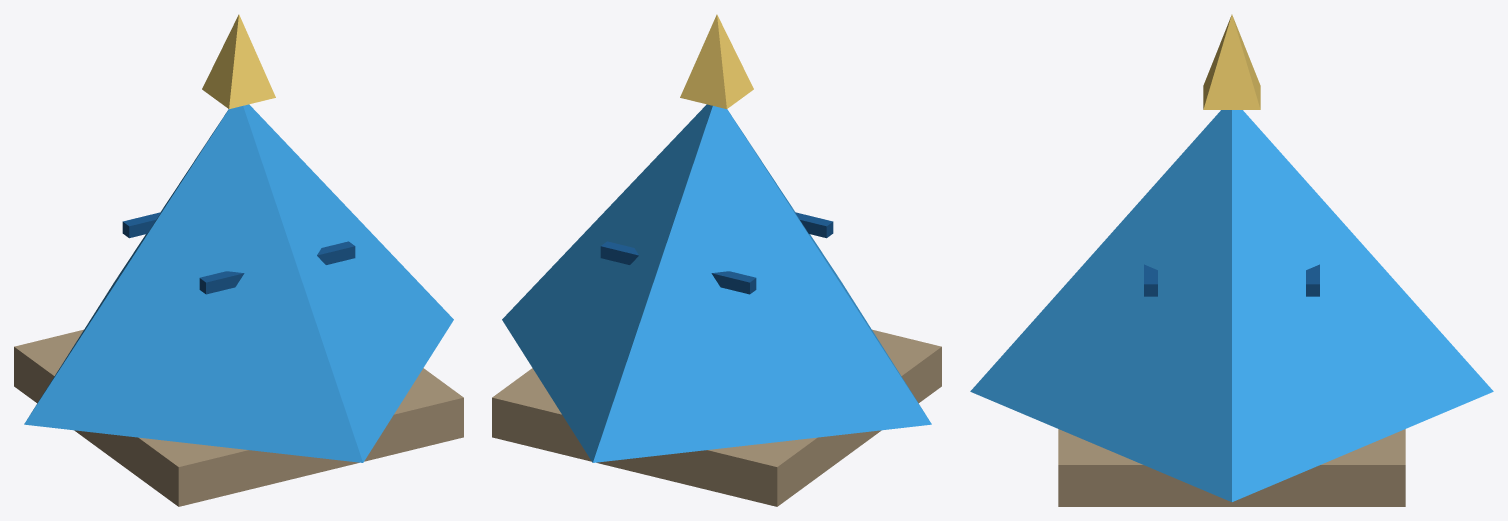
The model's file is city-module-roof-tile-lod0.glb.
3 views of the same model, side by side, from view 1: azimuth 30°, elevation 25°; view 2: azimuth 150°, elevation 25°; view 3: azimuth 270°, elevation 25° (orthographic). The views are drawn at different scales.
Parts seen in each view (by area): view 1: module_roof_tile_blue_pyramid, module_roof_tile_stone_socket, module_roof_tile_gold_tip, module_roof_tile_blue_rib_1, module_roof_tile_blue_rib_3; view 2: module_roof_tile_blue_pyramid, module_roof_tile_stone_socket, module_roof_tile_gold_tip, module_roof_tile_blue_rib_3, module_roof_tile_blue_rib_1; view 3: module_roof_tile_blue_pyramid, module_roof_tile_stone_socket, module_roof_tile_gold_tip.
Part boxes in pixels (x1,y1,x2,y2): module_roof_tile_blue_pyramid: (24,104,453,462); module_roof_tile_stone_socket: (14,329,463,506); module_roof_tile_gold_tip: (202,14,275,108); module_roof_tile_blue_rib_1: (199,241,355,294); module_roof_tile_blue_rib_3: (122,212,160,238); module_roof_tile_blue_pyramid: (502,104,931,462); module_roof_tile_stone_socket: (492,329,941,506); module_roof_tile_gold_tip: (680,14,753,108); module_roof_tile_blue_rib_3: (600,241,756,294); module_roof_tile_blue_rib_1: (795,212,833,238); module_roof_tile_blue_pyramid: (970,110,1493,501); module_roof_tile_stone_socket: (1058,429,1405,506); module_roof_tile_gold_tip: (1203,14,1260,109).
Bounding box in the file's own units: 0.4525 × 0.4 × 0.4525.
